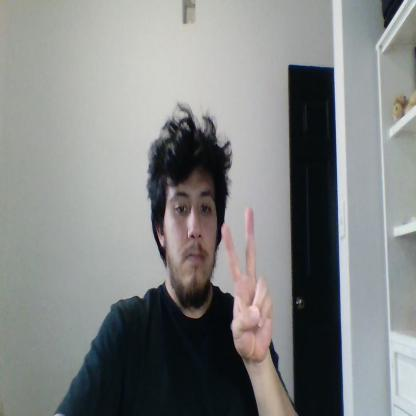V: (222, 207, 273, 363)
